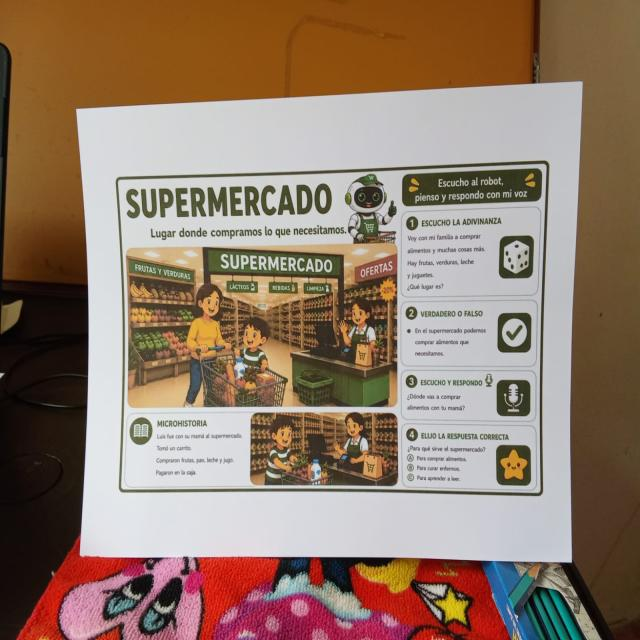supermercado: (112, 154, 553, 502)
